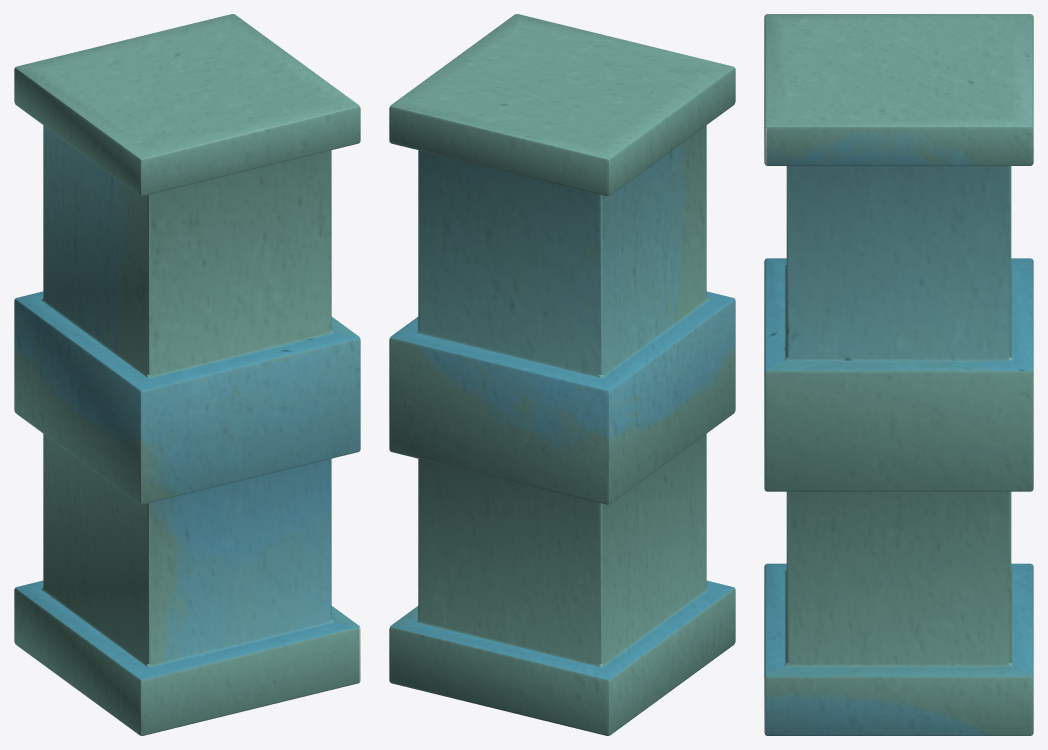
The model's file is TOMB_PILLAR_BIG_001.obj.
The picture shows the model from 3 angles, left to right: view 1: azimuth 30°, elevation 25°; view 2: azimuth 150°, elevation 25°; view 3: azimuth 270°, elevation 25°; orthographic projection. The views are drawn at different scales.
Parts seen in each view (by area): view 1: TOMB_PILLAR_BIG_001; view 2: TOMB_PILLAR_BIG_001; view 3: TOMB_PILLAR_BIG_001.
Part boxes in pixels (left/top/right/bottom): TOMB_PILLAR_BIG_001: left=14, top=14, right=360, bottom=735; TOMB_PILLAR_BIG_001: left=389, top=14, right=735, bottom=735; TOMB_PILLAR_BIG_001: left=764, top=14, right=1033, bottom=735.
Size of the model in its own units: 1.2 by 3 by 1.2.
